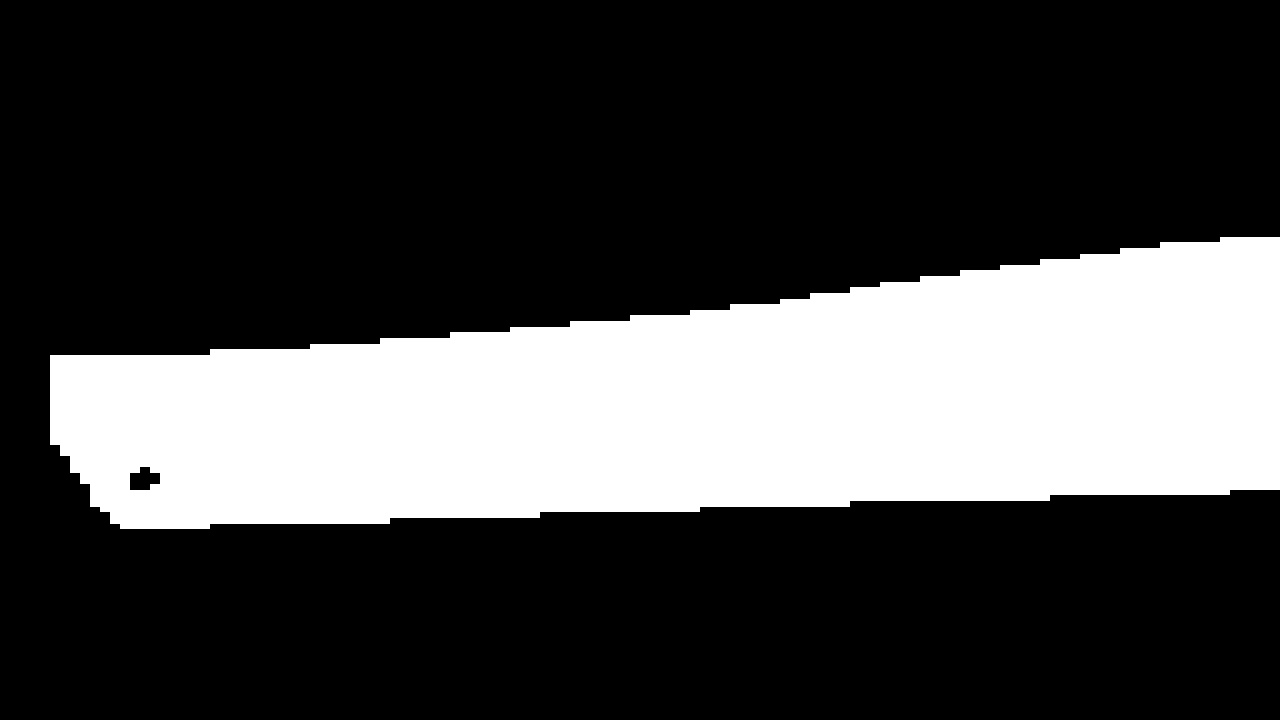Turbine: (42, 203, 1274, 548)
